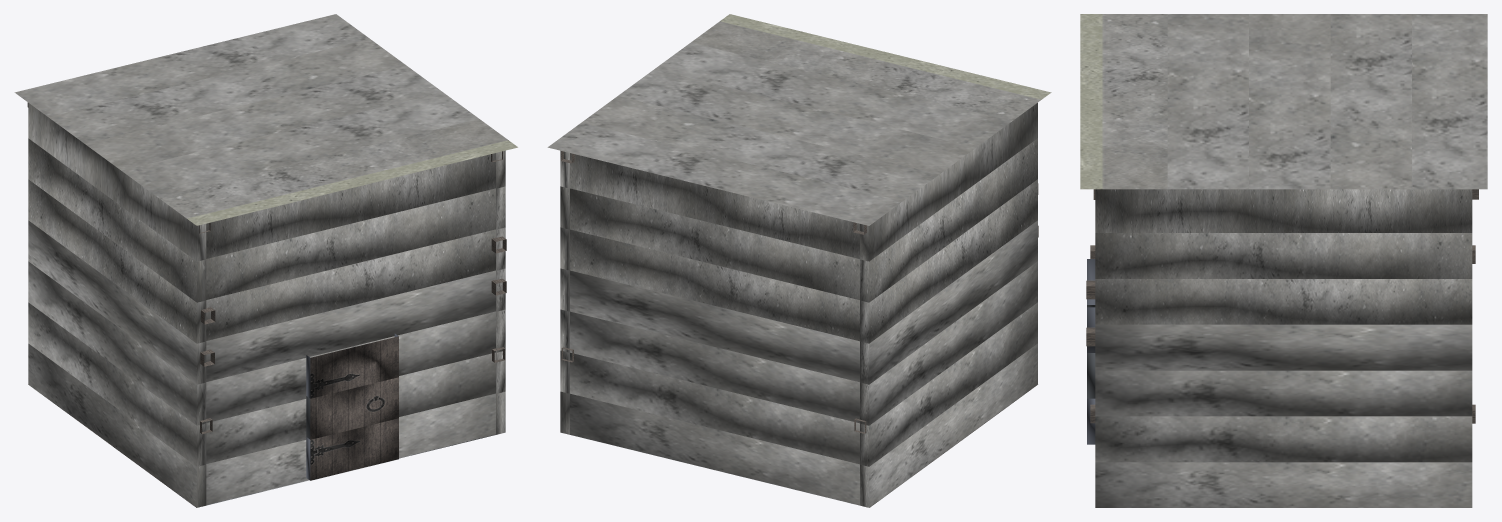
The model's file is BUNKER.fbx.
3 renders of one model, left to right at view 1: azimuth 30°, elevation 25°; view 2: azimuth 150°, elevation 25°; view 3: azimuth 270°, elevation 25°, orthographic. The views are drawn at different scales.
Visible parts, largest first — view 1: Plane.009; view 2: Plane.009; view 3: Plane.009.
Boxes of the visible parts, x1,y1,x2,y2 form: Plane.009: (14,14,517,507); Plane.009: (547,14,1051,507); Plane.009: (1080,14,1487,507).
Size of the model in its own units: 1524 by 1306 by 1496.
Materials: 2 (2 with a texture image).
